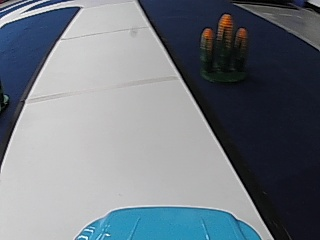corn: (199, 12, 250, 85)
